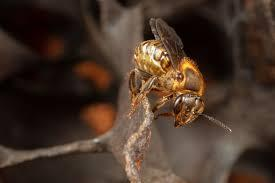Meliponula: (121, 15, 234, 142)
